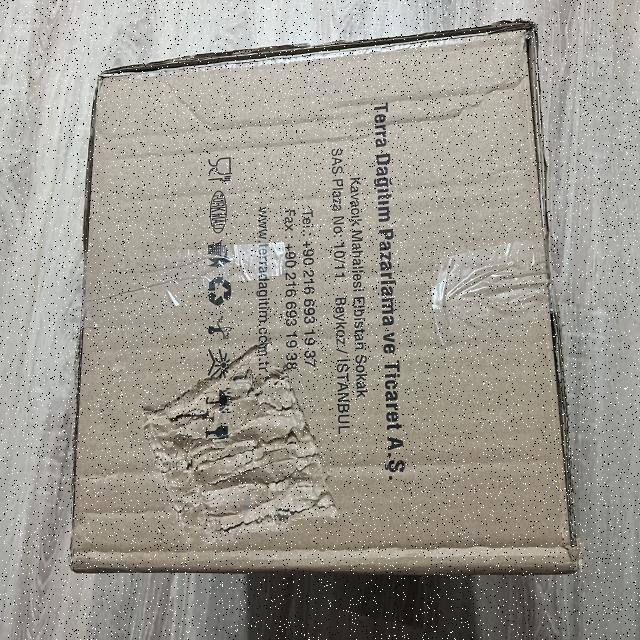damaged: (71, 15, 582, 582), (135, 317, 351, 559)
